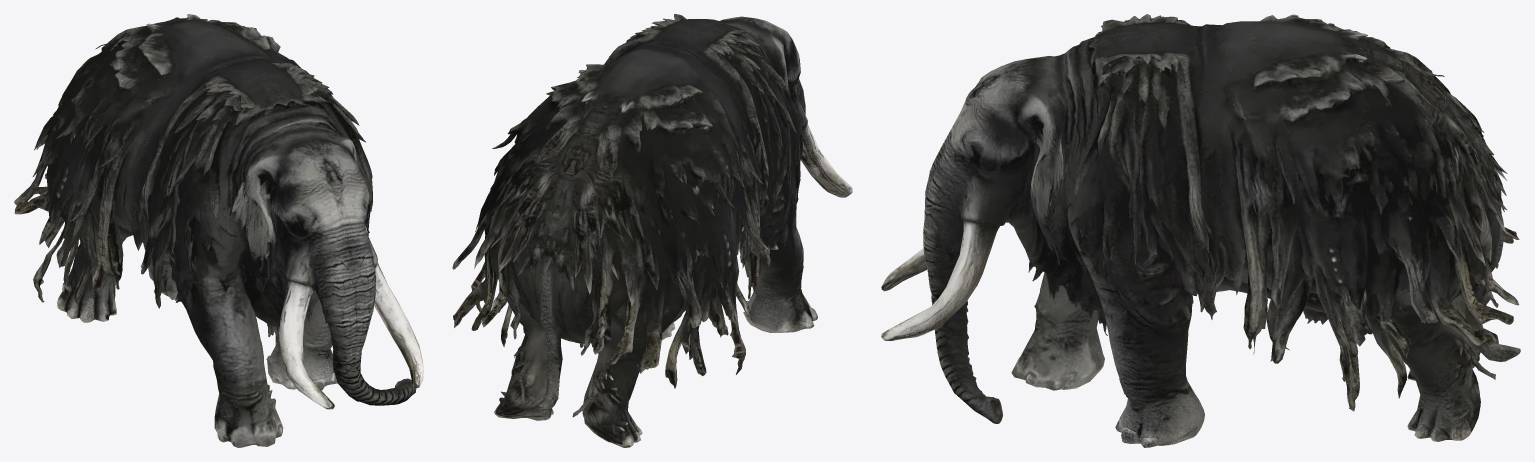
File: mamute.glb
The picture shows the model from 3 angles, left to right: view 1: azimuth 30°, elevation 25°; view 2: azimuth 150°, elevation 25°; view 3: azimuth 270°, elevation 25°; orthographic projection. The views are drawn at different scales.
Parts seen in each view (by area): view 1: Mesh_0; view 2: Mesh_0; view 3: Mesh_0.
Part boxes in pixels (<box>): Mesh_0: <box>14,14,423,447</box>; Mesh_0: <box>452,14,852,447</box>; Mesh_0: <box>881,14,1520,447</box>.
Size of the model in its own units: 1.13 by 1.23 by 1.9.
1 material, 1 textured.
